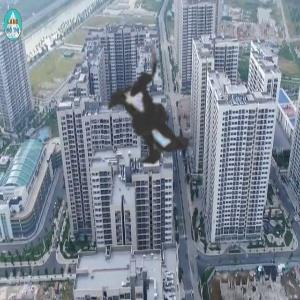drone: (41, 16, 262, 237)
